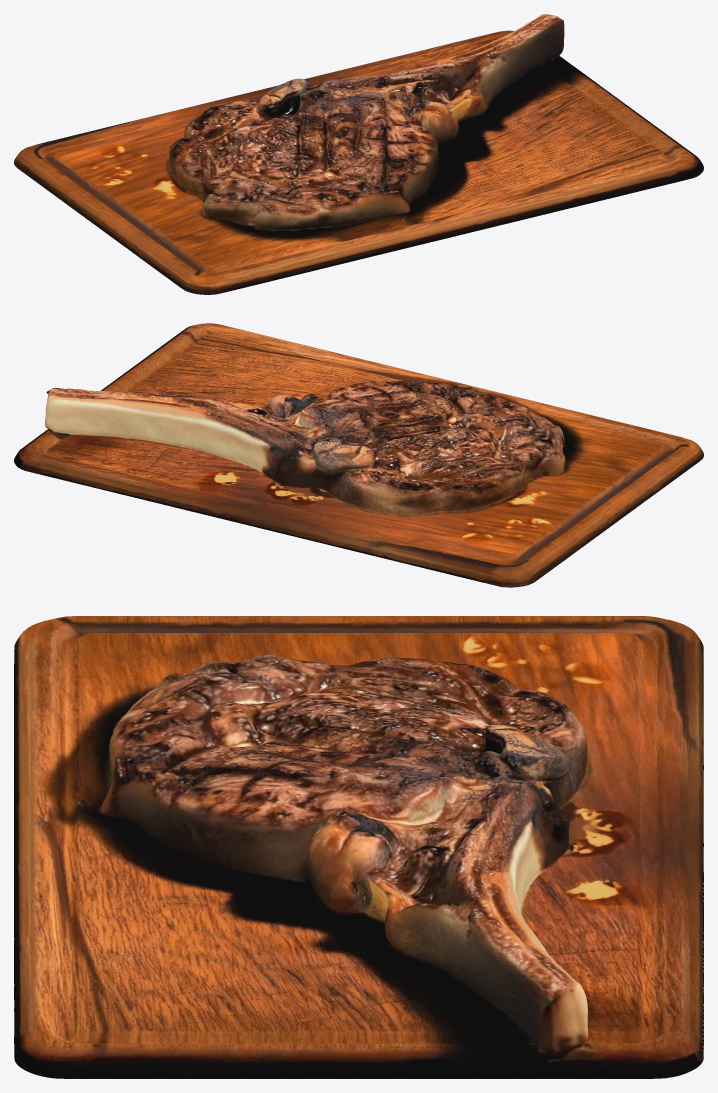
The model's file is Tomahawk_Steak.glb.
3 renders of one model, top to bottom at view 1: azimuth 30°, elevation 25°; view 2: azimuth 150°, elevation 25°; view 3: azimuth 270°, elevation 25°, orthographic. The views are drawn at different scales.
Size of the model in its own units: 1.9 by 0.1835 by 1.23.
1 material, 1 textured.
